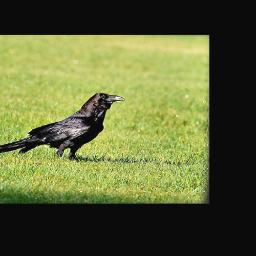Crow: (0, 91, 127, 162)
